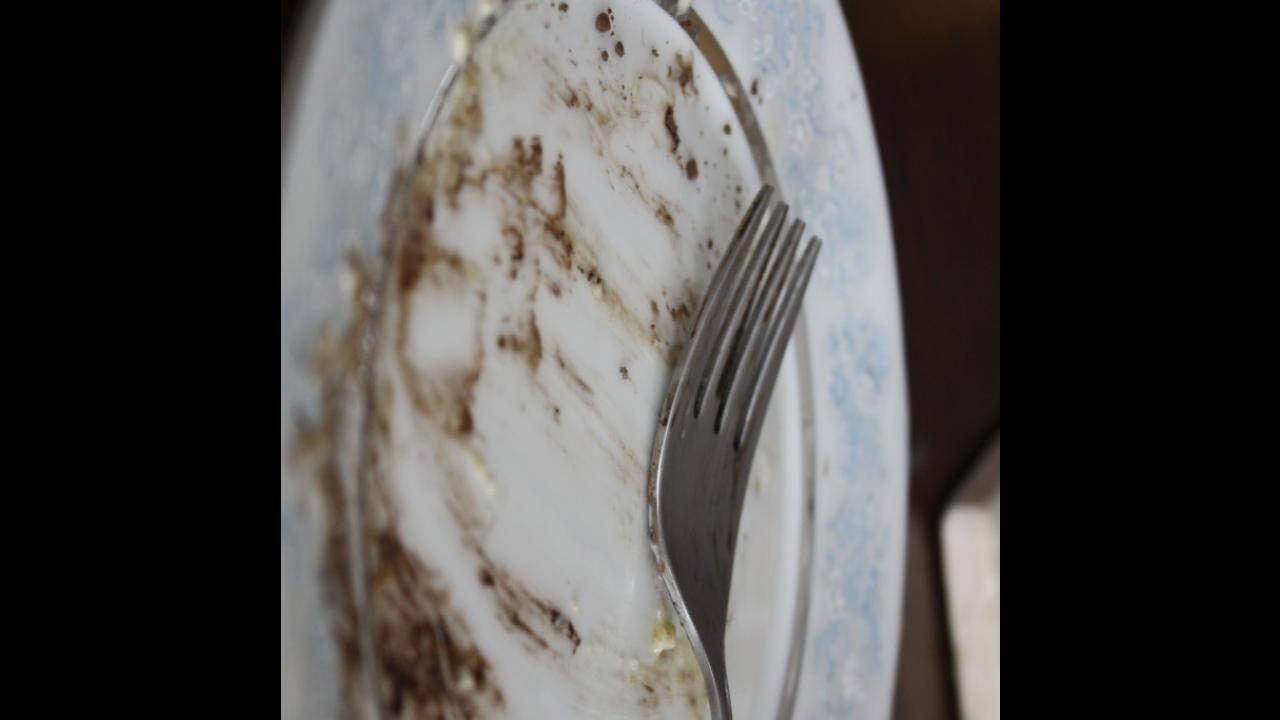fork: (641, 181, 823, 720)
